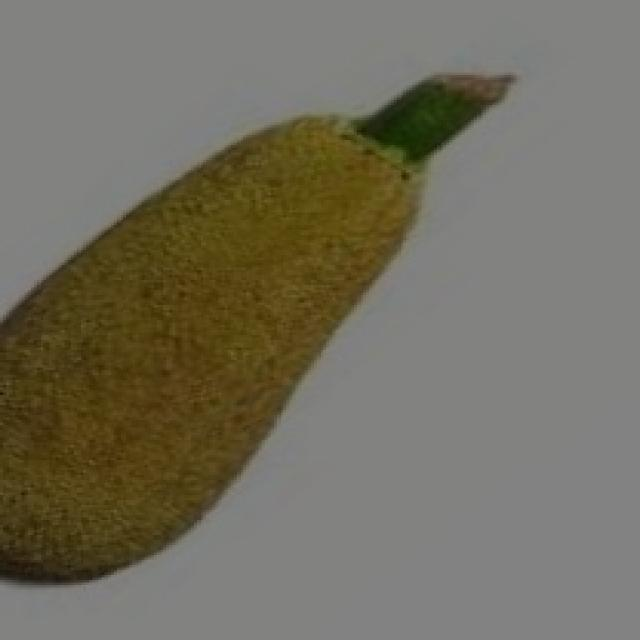Fruit: (0, 92, 440, 402), (0, 264, 372, 617)
